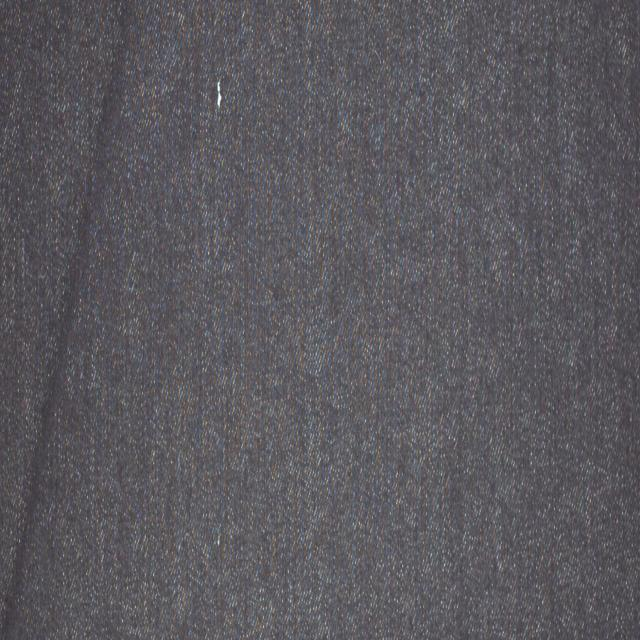Knot: (216, 79, 223, 110)
